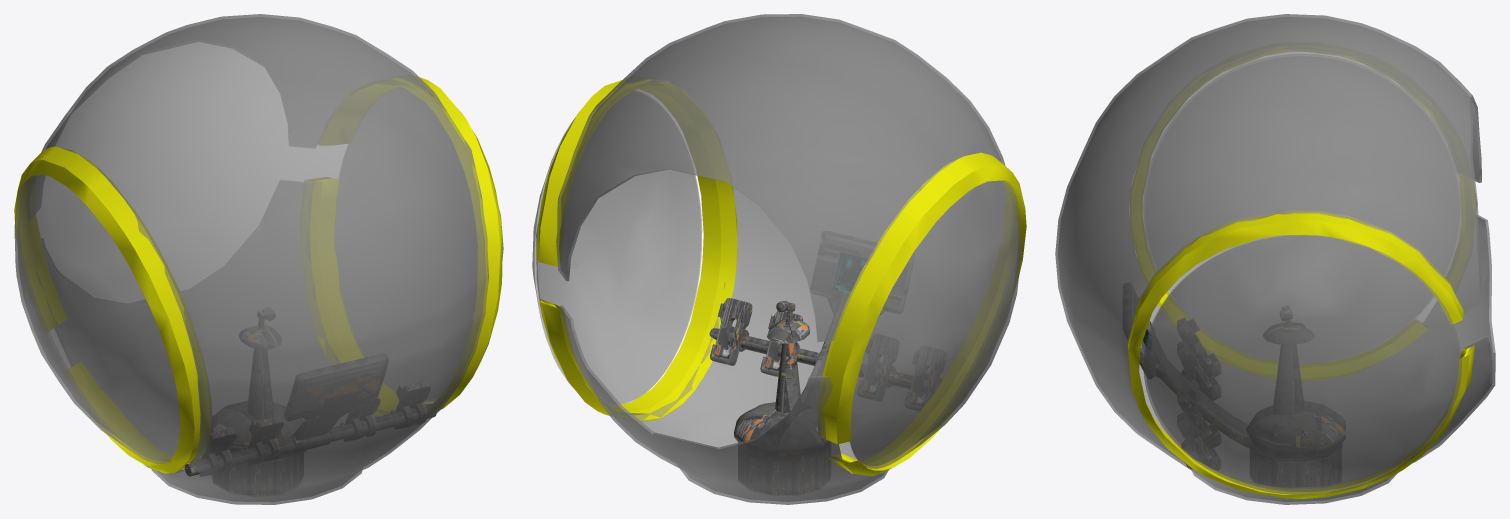
File: space ship.fbx
3 renders of one model, left to right at view 1: azimuth 30°, elevation 25°; view 2: azimuth 150°, elevation 25°; view 3: azimuth 270°, elevation 25°, orthographic.
Visible parts, largest first — view 1: pSphere1, polySurface8189, polySurface8188, polySurface8182, polySurface8181, pCube7, pSphere2, pSphere3, pCube5, pCube2, pCylinder2, pCube4 (+2 smaller); view 2: pSphere1, polySurface8189, polySurface8188, polySurface8187, polySurface8186, polySurface8181, polySurface8182, pSphere2, pCube7, pSphere3, pCube2, pCube5 (+3 smaller); view 3: pSphere1, polySurface8187, polySurface8186, polySurface8181, polySurface8182, pSphere2, pCube7, pSphere3, pCube5, pCube2, pCube3, pCube4.
Boxes of the visible parts, x1,y1,x2,y2 form: pSphere1: [28, 14, 488, 504]; polySurface8189: [14, 174, 180, 463]; polySurface8188: [17, 175, 179, 461]; polySurface8182: [14, 146, 211, 473]; polySurface8181: [304, 76, 502, 415]; pCube7: [265, 354, 388, 461]; pSphere2: [211, 401, 303, 494]; pSphere3: [239, 325, 281, 419]; pCube5: [244, 415, 282, 464]; pCube2: [391, 380, 429, 428]; pCylinder2: [184, 439, 294, 476]; pCube4: [198, 427, 235, 476]; pSphere1: [556, 14, 1005, 504]; polySurface8189: [850, 180, 1021, 468]; polySurface8188: [850, 181, 1017, 465]; polySurface8187: [532, 118, 700, 403]; polySurface8186: [536, 169, 702, 403]; polySurface8181: [536, 79, 737, 422]; polySurface8182: [818, 152, 1026, 476]; pSphere2: [734, 402, 830, 494]; pCube7: [801, 231, 914, 408]; pSphere3: [767, 318, 809, 412]; pCube2: [710, 298, 752, 365]; pCube5: [858, 334, 898, 401]; pSphere1: [1055, 14, 1495, 504]; polySurface8187: [1143, 235, 1461, 495]; polySurface8186: [1145, 235, 1459, 491]; polySurface8181: [1127, 210, 1474, 498]; polySurface8182: [1130, 46, 1476, 379]; pSphere2: [1246, 401, 1345, 487]; pCube7: [1123, 283, 1254, 449]; pSphere3: [1263, 322, 1313, 414]; pCube5: [1177, 341, 1220, 400]; pCube2: [1177, 412, 1220, 470]; pCube3: [1177, 388, 1220, 448]; pCube4: [1177, 317, 1220, 377].
Size of the model in its own units: 195 by 196 by 176.
Materials: 4 (2 with a texture image).
